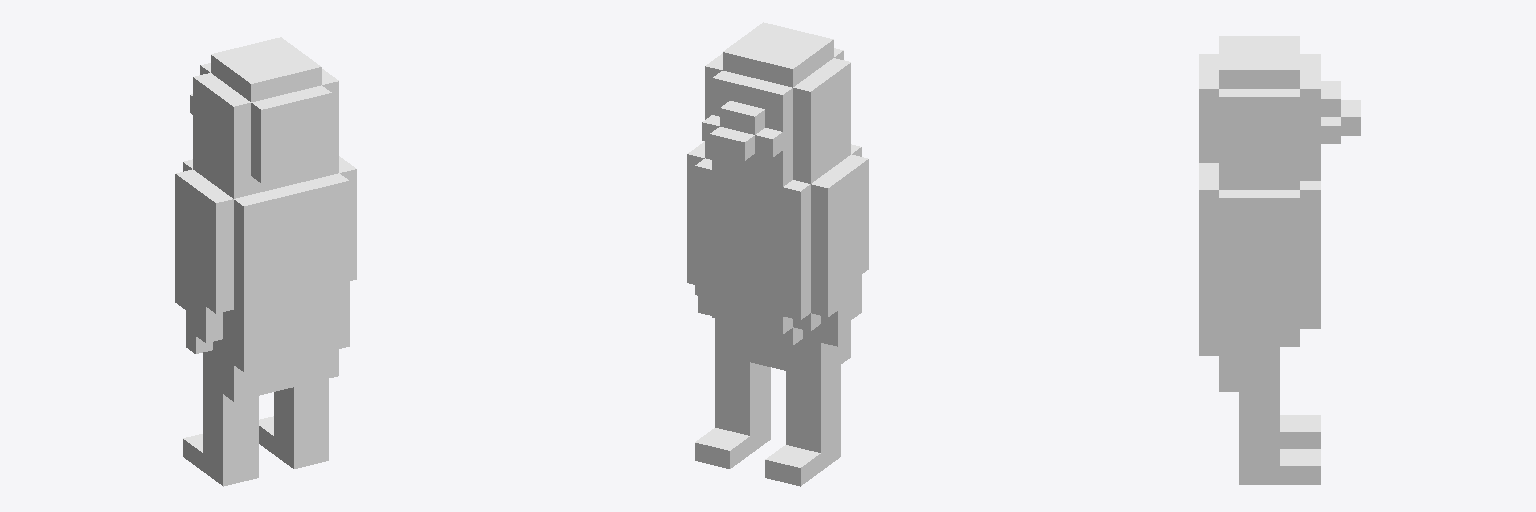
The model's file is out_penguin_player.obj.
3 views of the same model, side by side, from view 1: azimuth 30°, elevation 25°; view 2: azimuth 150°, elevation 25°; view 3: azimuth 270°, elevation 25° (orthographic).
Visible parts, largest first — view 1: object 1; view 2: object 1; view 3: object 1.
Part boxes in pixels (bbox=[...]): object 1: bbox=[175, 37, 356, 486]; object 1: bbox=[687, 22, 868, 486]; object 1: bbox=[1199, 36, 1360, 484].
Bounding box in the file's own units: 0.8 × 2.2 × 0.8.